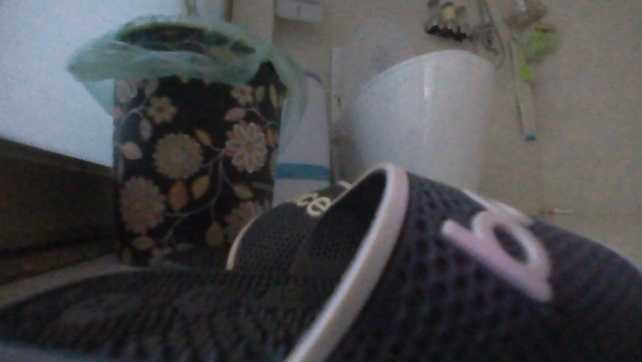slipper: (0, 160, 640, 361)
toilet: (318, 17, 495, 200)
trash_can: (65, 9, 309, 271)
